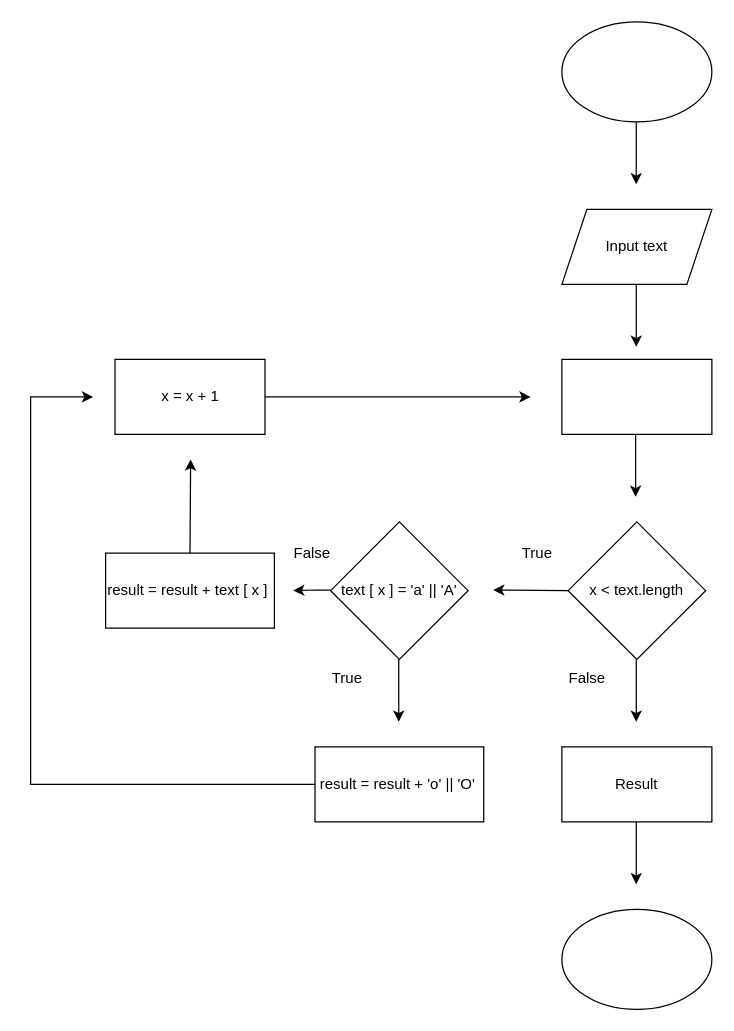
This 734x1031 diagram has some shape labels left out. The centre of each missing label's shape, as x and y in pixels:
Finish: [636,958]
Start: [636,71]
x = 0: [636,396]
